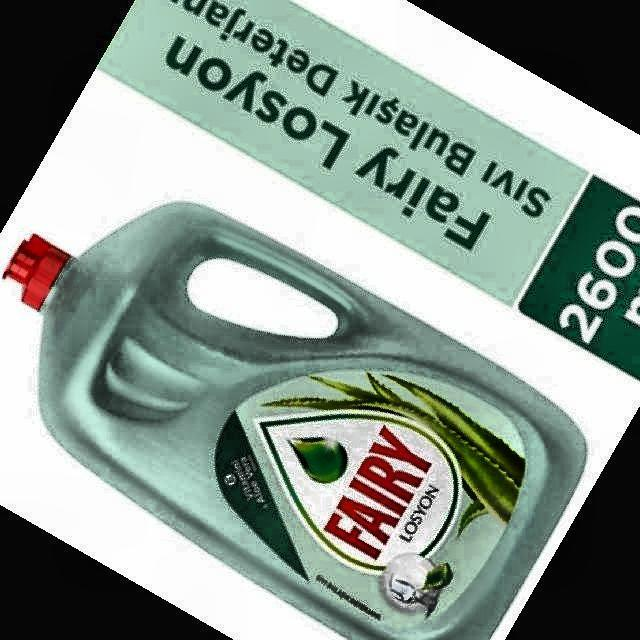plastic: (5, 204, 585, 639)
